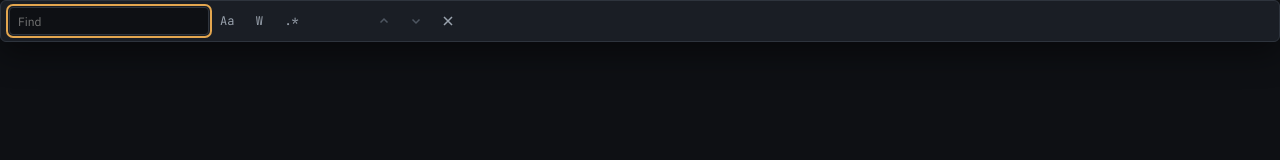
Scenario: FindBar › finds a value, counts 3 of 8-style matches and Enter jumps on (spec: data-grid › Find a value)
In the field named "Find in results": (109,21) [9,7,209,35], type "ship"
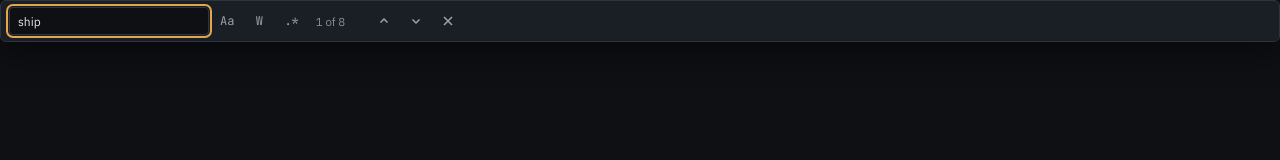
Expected: the message named "Find result" reads "1 of 8", [316,14,345,28]
Press Enter in the field named "Find in results", box [9,7,209,35]
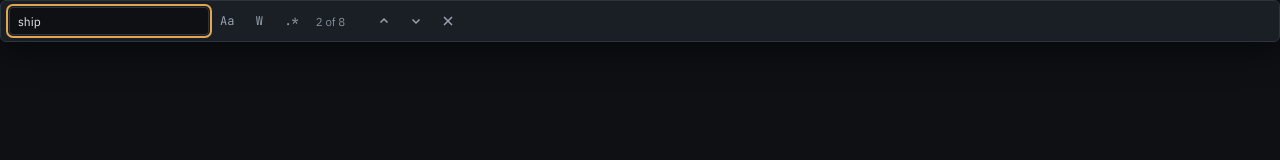
Expected: the message named "Find result" reads "2 of 8", [316,14,345,28]
Press Enter in the field named "Find in results", box [9,7,209,35]
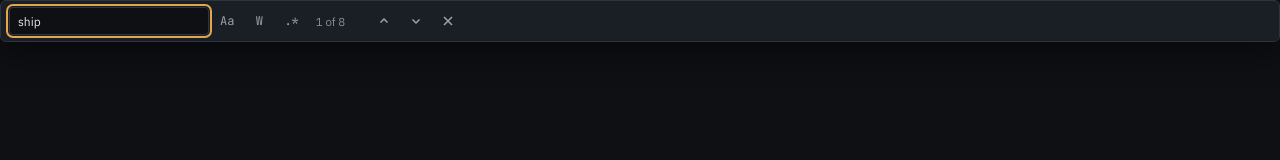
Expected: the message named "Find result" reads "1 of 8", [316,14,345,28]
